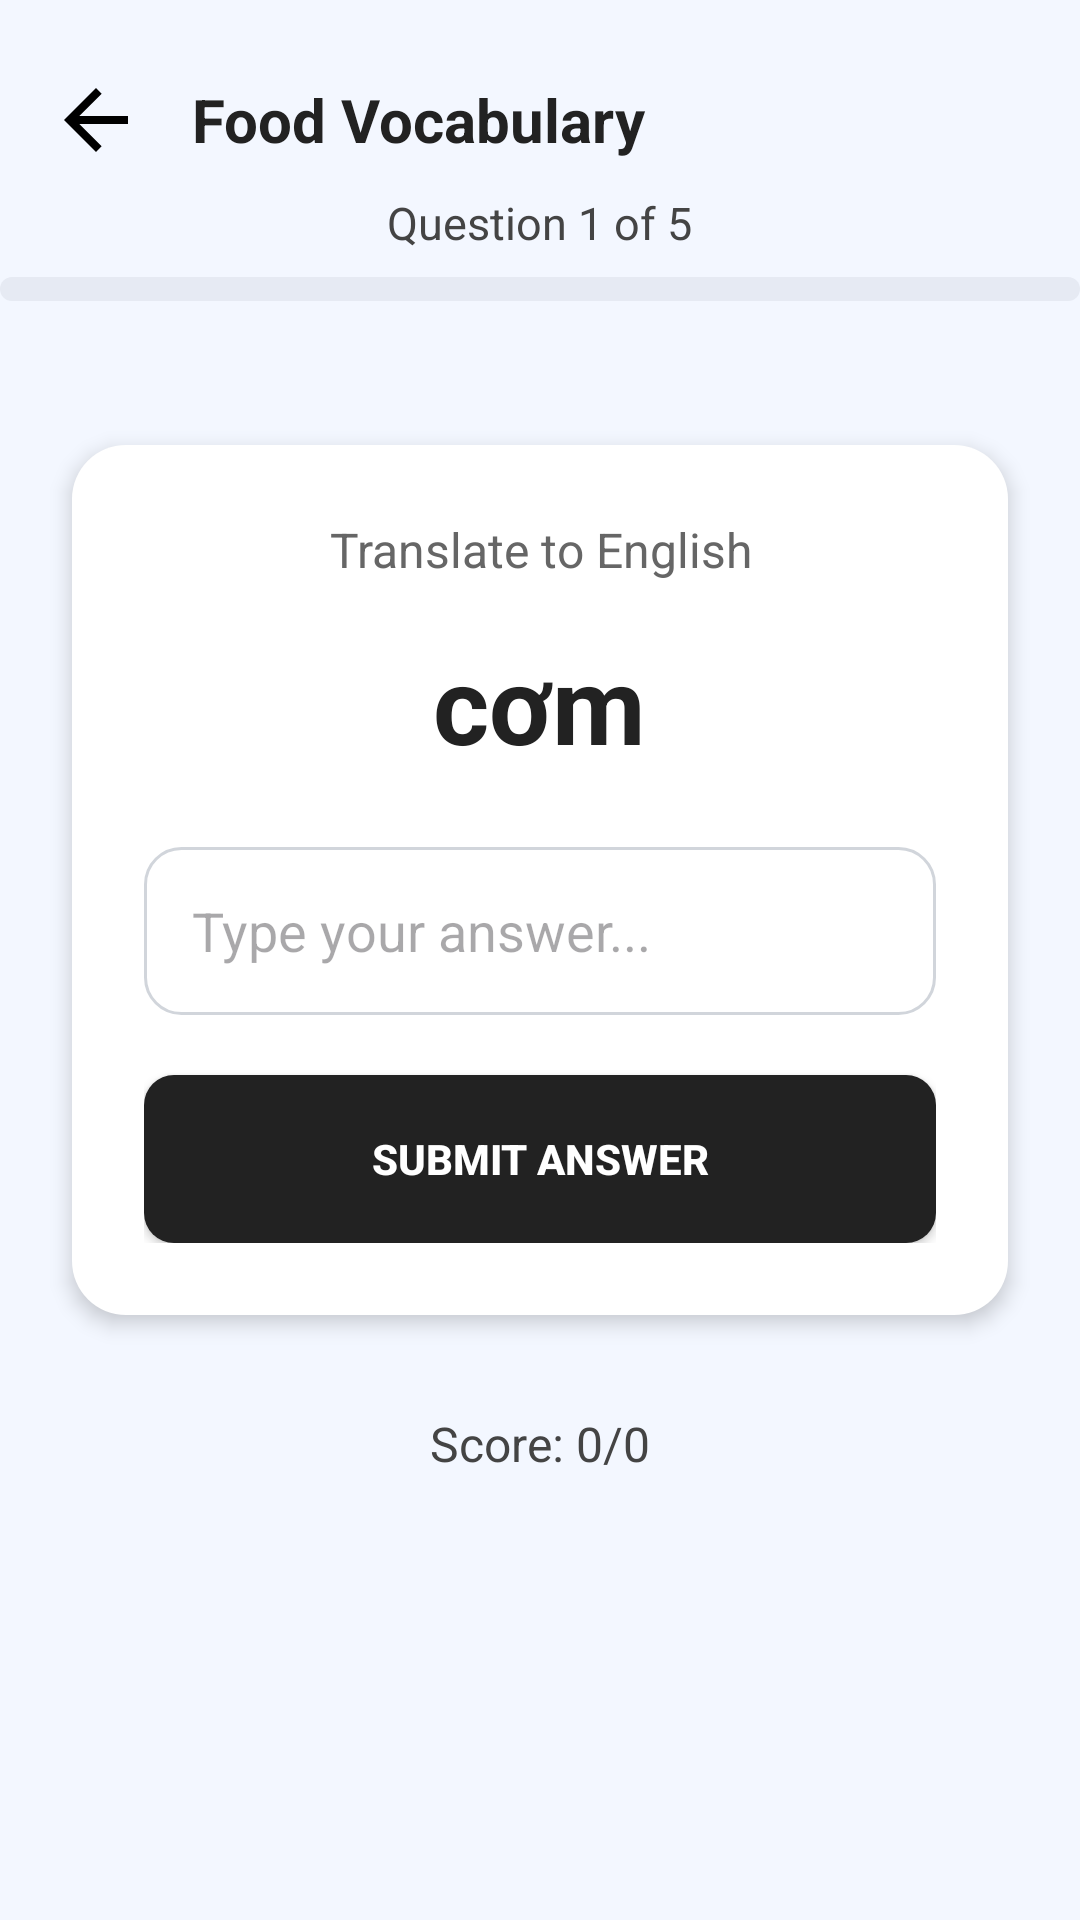

Where icons sit on this 1080 × 1920 app screen, as (x1, y1, x2, y2):
Back: (64, 88, 128, 152)
